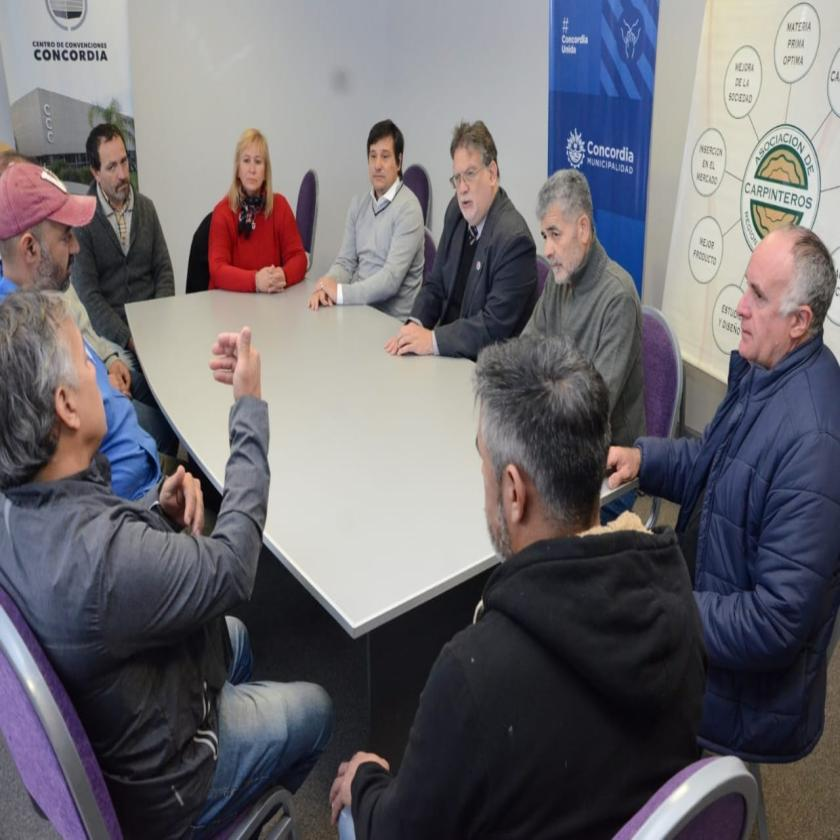Sin_casco: (468, 332, 614, 554), (0, 302, 112, 494), (732, 223, 836, 372), (537, 168, 593, 293), (449, 114, 502, 232), (86, 122, 136, 207), (365, 118, 408, 188), (238, 123, 271, 201)
